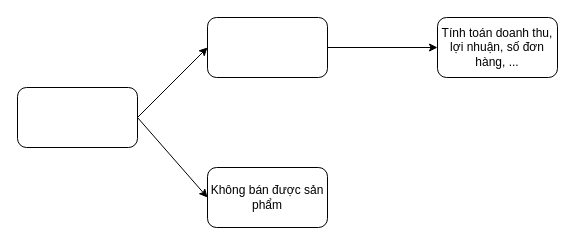
Some shapes in this 575 by 245 pixel diagram are drawn without their labels. Each missing label, with the centre of its shape:
"Bán được sản phẩm" goes at (267,47).
"Doanh thu, lợi nhuận, số đơn hàng, ..." goes at (77,117).
